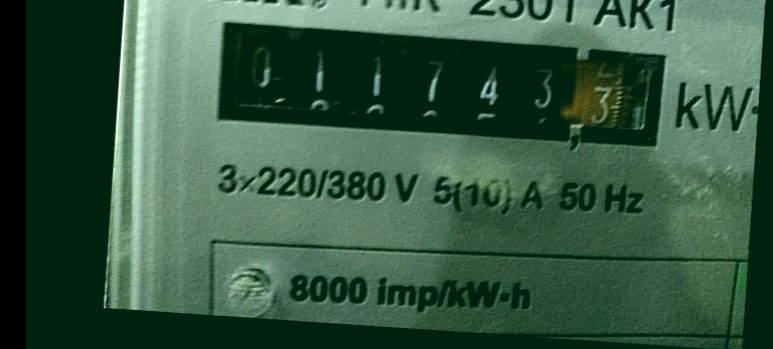0: (249, 45, 281, 94)
1: (369, 54, 393, 103), (314, 50, 334, 99)
3: (532, 67, 563, 116), (591, 85, 618, 130)
4: (478, 62, 510, 112)
7: (424, 60, 452, 109)
screen: (204, 14, 677, 163)
